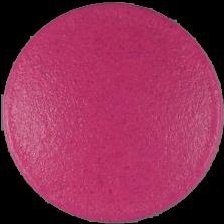68151-2992: (0, 0, 224, 224)
